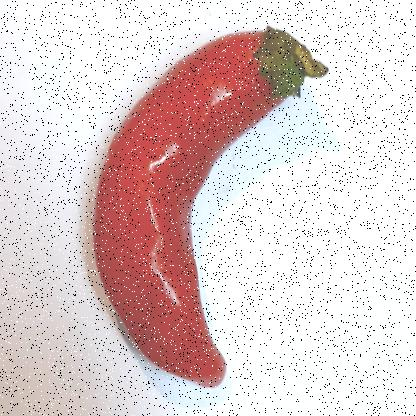chili: (90, 26, 330, 390)
